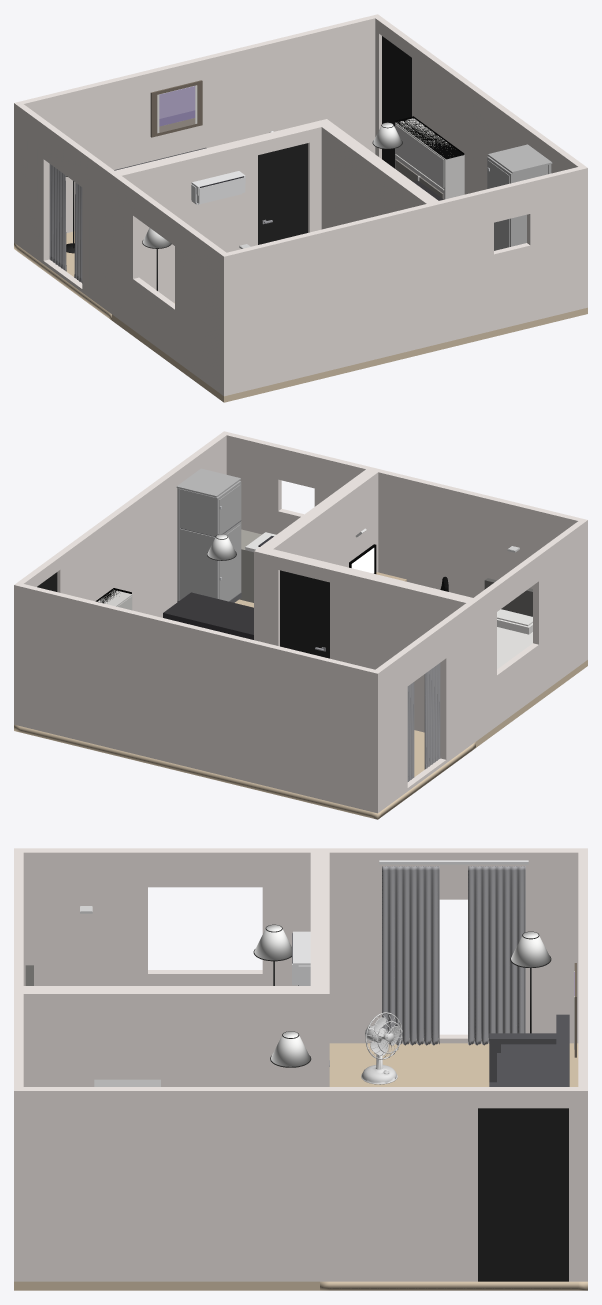
Rendered from model_house.gltf.
3 views of the same model, one above another, from view 1: azimuth 30°, elevation 25°; view 2: azimuth 150°, elevation 25°; view 3: azimuth 270°, elevation 25° (orthographic). The views are drawn at different scales.
Visible parts, largest first — view 1: bed_wall_-y, living_wall_+y, kitchen_wall_-y, bed_wall_-x, bed_wall_+y, living_wall_-x, bed_wall_+x, living_wall_+x, kitchen_wall_+x, bed_door_living, living_door_entrance, bed_plane (+16 smaller); view 2: living_wall_+y, bed_wall_-y, bed_wall_-x, living_wall_-y, living_wall_-x, kitchen_wall_+x, kitchen_wall_-y, bed_wall_+x, living_wall_+x, living_door_bed, living_plane, kitchen_table_top (+14 smaller); view 3: kitchen_wall_+x, living_wall_+x, bed_wall_-x, kitchen_wall_-x, living_wall_-x, living_door_entrance, living_curtain_left, living_curtain_right, living_plane, living_wall_+y, kitchen_plane, living_sofa_cushion (+14 smaller).
Boxes of the visible parts, left/top/right/bottom form: bed_wall_-y: left=220, top=202, right=436, bottom=395; living_wall_+y: left=14, top=14, right=380, bottom=243; kitchen_wall_-y: left=436, top=166, right=587, bottom=344; bed_wall_-x: left=112, top=175, right=229, bottom=396; bed_wall_+y: left=112, top=123, right=327, bottom=315; living_wall_-x: left=14, top=101, right=117, bottom=313; bed_wall_+x: left=318, top=123, right=436, bottom=345; living_wall_+x: left=372, top=14, right=475, bottom=194; kitchen_wall_+x: left=470, top=86, right=587, bottom=308; bed_door_living: left=258, top=143, right=307, bottom=244; living_door_entrance: left=382, top=36, right=411, bottom=168; bed_plane: left=112, top=302, right=436, bottom=402; living_wall_+y: left=14, top=583, right=381, bottom=812; bed_wall_-y: left=372, top=468, right=587, bottom=652; bed_wall_-x: left=470, top=519, right=587, bottom=741; living_wall_-y: left=254, top=548, right=475, bottom=741; living_wall_-x: left=372, top=600, right=475, bottom=813; kitchen_wall_+x: left=112, top=431, right=229, bottom=617; kitchen_wall_-y: left=221, top=432, right=369, bottom=534; bed_wall_+x: left=264, top=468, right=380, bottom=572; living_wall_+x: left=14, top=513, right=117, bottom=725; living_door_bed: left=280, top=570, right=329, bottom=658; living_plane: left=14, top=724, right=475, bottom=819; kitchen_table_top: left=163, top=592, right=253, bottom=639; kitchen_wall_+x: left=14, top=1087, right=319, bottom=1281; living_wall_+x: left=320, top=1087, right=587, bottom=1281; bed_wall_-x: left=14, top=848, right=319, bottom=985; kitchen_wall_-x: left=14, top=990, right=319, bottom=1086; living_wall_-x: left=320, top=848, right=587, bottom=1043; living_door_entrance: left=478, top=1108, right=568, bottom=1281; living_curtain_left: left=382, top=866, right=439, bottom=1045; living_curtain_right: left=468, top=866, right=525, bottom=1045; living_plane: left=320, top=1043, right=587, bottom=1290; living_wall_+y: left=578, top=848, right=587, bottom=1281; kitchen_plane: left=14, top=1281, right=319, bottom=1290; living_sofa_cushion: left=501, top=1044, right=556, bottom=1086.
Size of the model in its own units: 6 by 2.3 by 6.
